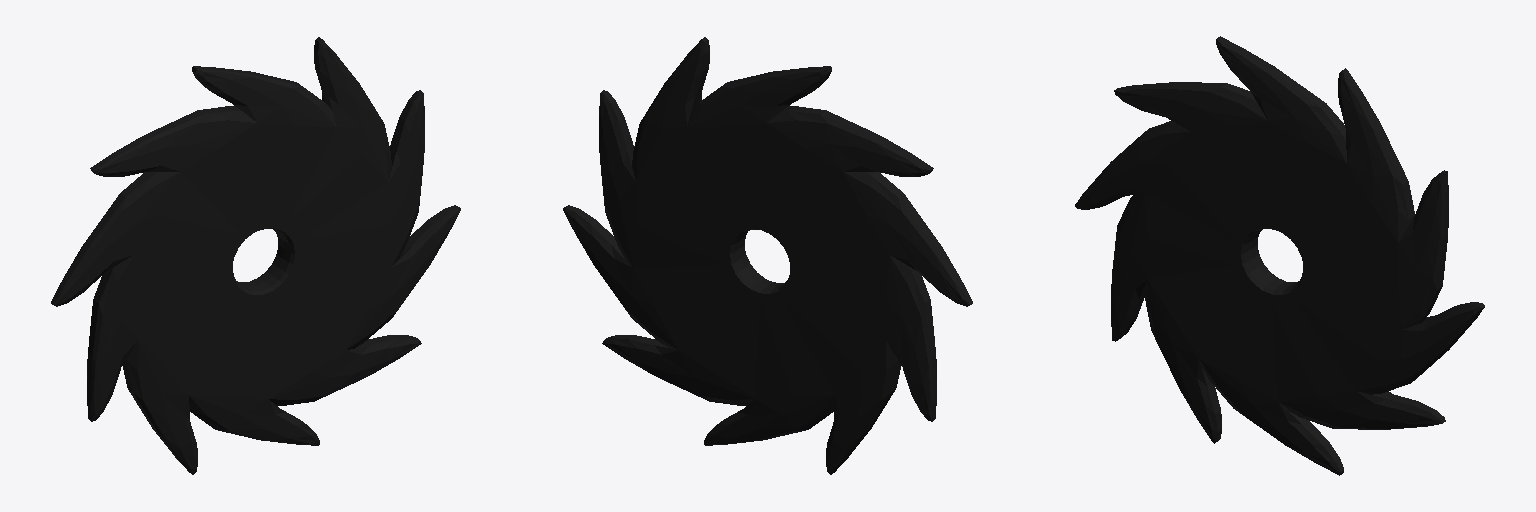
File: Hazard_Saw.obj
3 renders of one model, left to right at view 1: azimuth 30°, elevation 25°; view 2: azimuth 150°, elevation 25°; view 3: azimuth 330°, elevation 25°, orthographic.
Parts seen in each view (by area): view 1: Hazard_Saw_Cylinder.009; view 2: Hazard_Saw_Cylinder.009; view 3: Hazard_Saw_Cylinder.009.
Part boxes in pixels (x1,y1,x2,y2): Hazard_Saw_Cylinder.009: (51,37,460,474); Hazard_Saw_Cylinder.009: (563,37,972,474); Hazard_Saw_Cylinder.009: (1075,36,1484,475).
Bounding box in the file's own units: 3 × 2.86 × 0.1978.